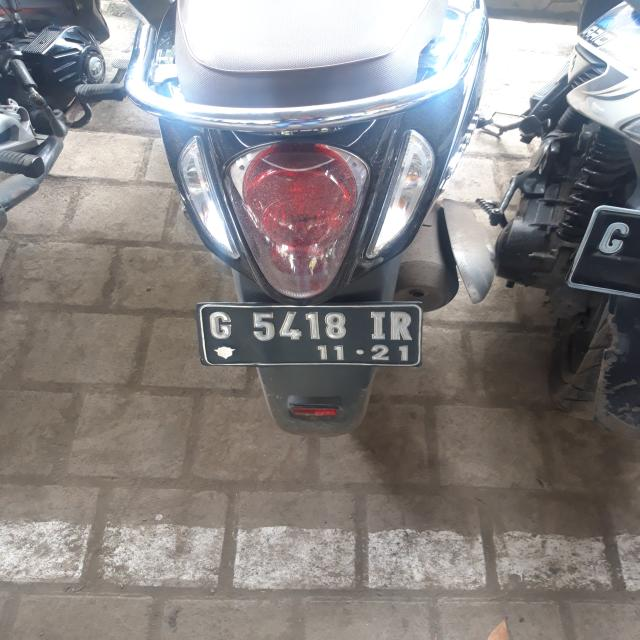plate: (196, 300, 424, 370)
